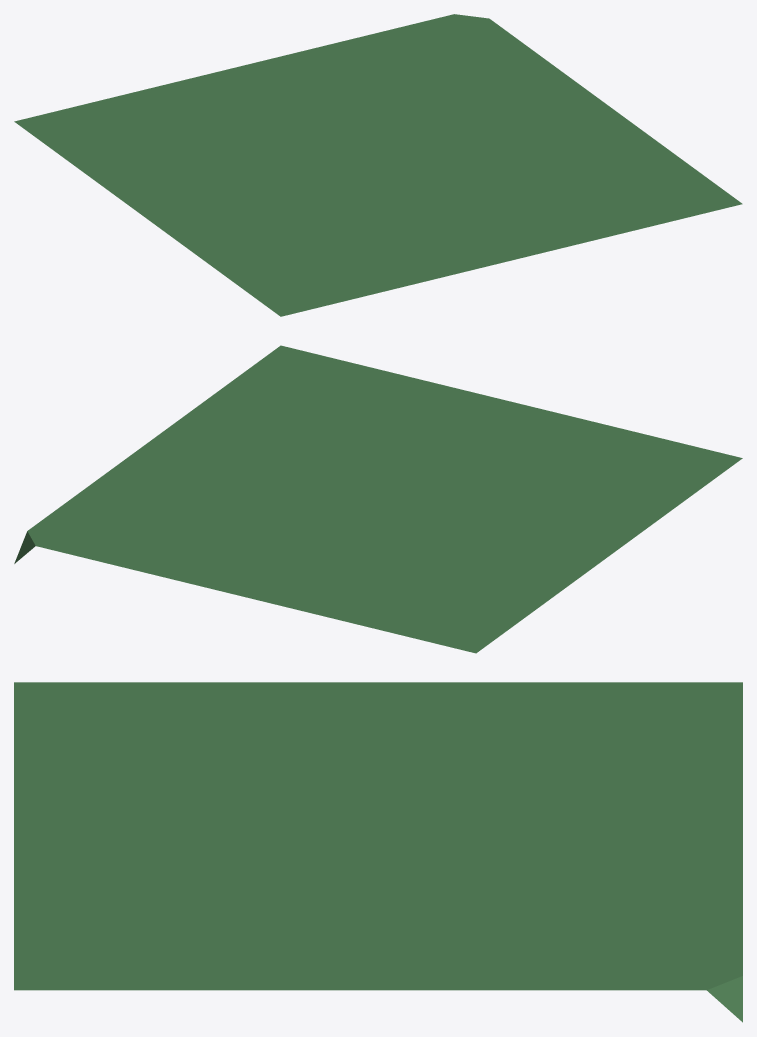
The model's file is Grass_1_Interior_Corner.fbx.
3 views of the same model, one above another, from view 1: azimuth 30°, elevation 25°; view 2: azimuth 150°, elevation 25°; view 3: azimuth 270°, elevation 25° (orthographic). The views are drawn at different scales.
Parts seen in each view (by area): view 1: Grass_1_Interior_Corner; view 2: Grass_1_Interior_Corner; view 3: Grass_1_Interior_Corner.
Boxes of the visible parts, <box> form: Grass_1_Interior_Corner: <box>14,14,742,316</box>; Grass_1_Interior_Corner: <box>14,345,742,653</box>; Grass_1_Interior_Corner: <box>14,682,742,1022</box>.
Size of the model in its own units: 1 by 0.049 by 1.
